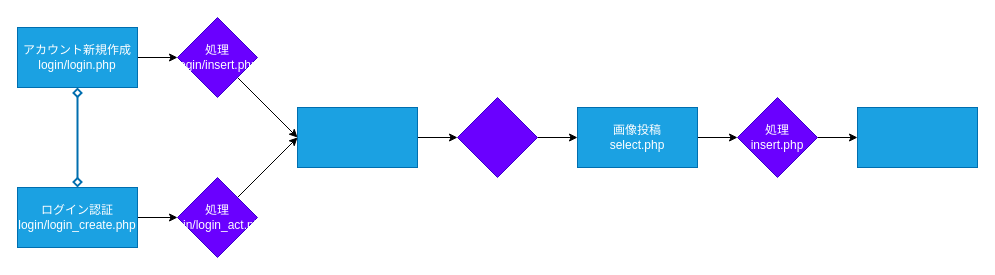
Image size: 995x275. Some labels were removed from this diagram. The centre of each missing label's shape, as x and y in pixels:
"ユーザー写真登録 create_profile.php" belongs at pixel 357 137.
"処理 create_profile_insert .php" belongs at pixel 497 137.
"投稿一覧 main.php" belongs at pixel 917 137.
